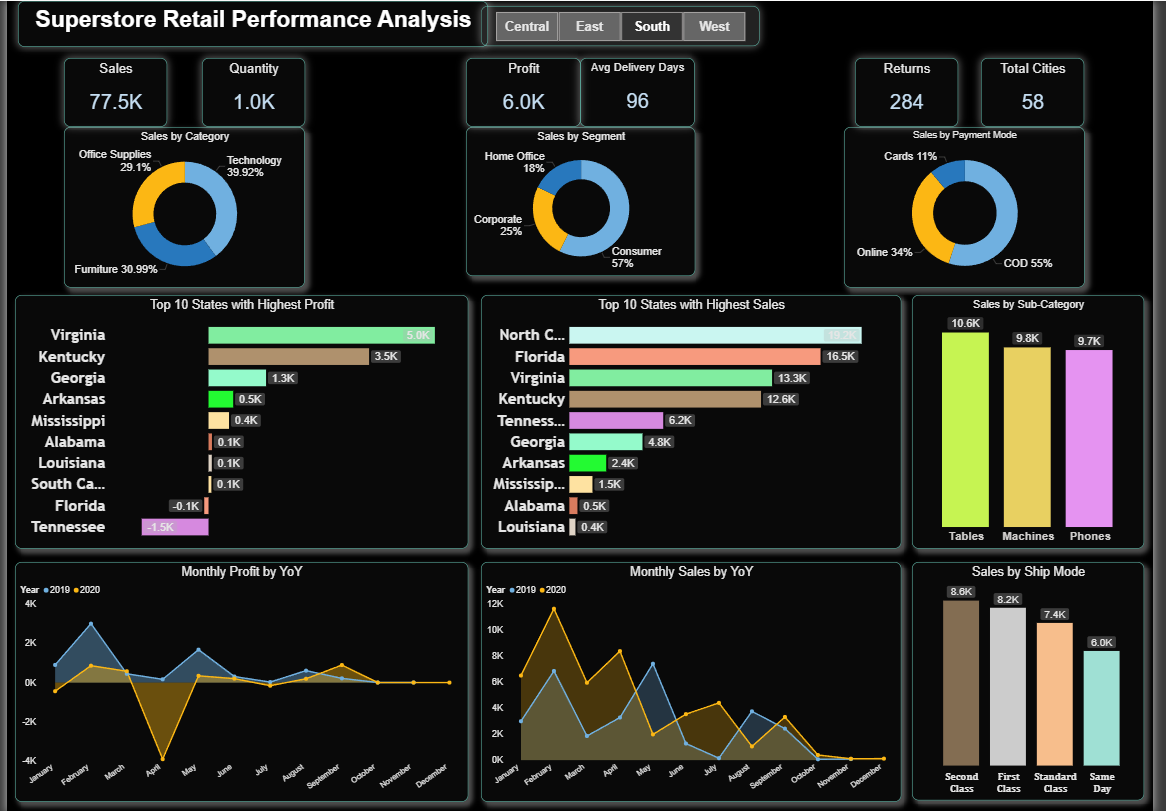

The dashboard page shown, as its layout file describes it:
{"tool":"powerbi","page":{"name":"Dashboard","canvas":[2400,1700],"ordinal":0},"visuals":[{"type":"donutChart","title":"Sales by Category","fields":{"Category":["SuperStore_Sales_Dataset.Category"],"Y":["Sum(SuperStore_Sales_Dataset.Sales)"]},"box":[120,264,504,336],"z":0},{"type":"clusteredColumnChart","title":"Sales by Sub-Category","fields":{"Category":["SuperStore_Sales_Dataset.Sub-Category"],"Y":["Sum(SuperStore_Sales_Dataset.Sales)"]},"box":[1894.4,614.8,486.1,530.8],"z":1000},{"type":"clusteredColumnChart","title":"Sales by Ship Mode","fields":{"Category":["SuperStore_Sales_Dataset.Ship Mode"],"Y":["Sum(SuperStore_Sales_Dataset.Sales)"]},"box":[1894.4,1174.5,486.1,499.2],"z":2000},{"type":"areaChart","title":"Monthly Sales by YoY ","fields":{"Y":["Sum(SuperStore_Sales_Dataset.Sales)"],"Category":["SuperStore_Sales_Dataset.Order Date.Variation.Date Hierarchy.Month","SuperStore_Sales_Dataset.Order Date.Variation.Date Hierarchy.Day"],"Series":["SuperStore_Sales_Dataset.Order Date.Variation.Date Hierarchy.Year"]},"box":[993.2,1174.5,880.2,501.9],"z":3000},{"type":"areaChart","title":"Monthly Profit by YoY ","fields":{"Category":["SuperStore_Sales_Dataset.Order Date.Variation.Date Hierarchy.Month","SuperStore_Sales_Dataset.Order Date.Variation.Date Hierarchy.Day"],"Series":["SuperStore_Sales_Dataset.Order Date.Variation.Date Hierarchy.Year"],"Y":["Sum(SuperStore_Sales_Dataset.Profit)"]},"box":[15.8,1174.5,948.5,501.9],"z":4000},{"type":"donutChart","title":"Sales by Segment","fields":{"Category":["SuperStore_Sales_Dataset.Segment"],"Y":["Sum(SuperStore_Sales_Dataset.Sales)"]},"box":[960,264,480,312],"z":6000},{"type":"donutChart","title":"Sales by Payment Mode","fields":{"Category":["SuperStore_Sales_Dataset.Payment Mode"],"Y":["Sum(SuperStore_Sales_Dataset.Sales)"]},"box":[1752,264,504,336],"z":7000},{"type":"slicer","fields":{"Values":["SuperStore_Sales_Dataset.Region"]},"box":[993.2,10.5,583.3,84.1],"z":8000},{"type":"textbox","box":[24,0,984,96],"z":9000},{"type":"card","title":"Sales","fields":{"Values":["Sum(SuperStore_Sales_Dataset.Sales)"]},"box":[120,120,216,144],"z":10000},{"type":"card","title":"Quantity","fields":{"Values":["Sum(SuperStore_Sales_Dataset.Quantity)"]},"box":[408,120,216,144],"z":11000},{"type":"card","title":"Profit","fields":{"Values":["Sum(SuperStore_Sales_Dataset.Profit)"]},"box":[960,120,240,144],"z":12000},{"type":"card","title":"Avg Delivery Days","fields":{"Values":["Avg(SuperStore_Sales_Dataset.AvgDelivery)"]},"box":[1200,120,240,144],"z":13000},{"type":"card","title":"Returns","fields":{"Values":["CountNonNull(SuperStore_Sales_Dataset.Returns)"]},"box":[1776,120,216,144],"z":14000},{"type":"card","title":"Total Cities","fields":{"Values":["Count(SuperStore_Sales_Dataset.City)"]},"box":[2040,120,216,144],"z":15000},{"type":"clusteredBarChart","title":"Top 10 States with Highest Sales","fields":{"Category":["SuperStore_Sales_Dataset.State"],"Y":["Sum(SuperStore_Sales_Dataset.Sales)"]},"box":[993.2,614.8,880.2,530.8],"z":16000},{"type":"clusteredBarChart","title":"Top 10 States with Highest Profit ","fields":{"Category":["SuperStore_Sales_Dataset.State"],"Y":["Sum(SuperStore_Sales_Dataset.Profit)"]},"box":[15.8,614.8,948.5,530.8],"z":17000}]}

Visuals, with their boxes in screenshot pixels (x1, y1, x2, y2), scaled from the page's 2400x1700 canvas onto the 1166x811 screenshot:
"Sales by Category" donutChart: [58, 126, 303, 286]
"Sales by Sub-Category" clusteredColumnChart: [920, 293, 1157, 547]
"Sales by Ship Mode" clusteredColumnChart: [920, 560, 1157, 798]
"Monthly Sales by YoY " areaChart: [483, 560, 910, 800]
"Monthly Profit by YoY " areaChart: [8, 560, 468, 800]
"Sales by Segment" donutChart: [466, 126, 700, 275]
"Sales by Payment Mode" donutChart: [851, 126, 1096, 286]
slicer - SuperStore_Sales_Dataset.Region: [483, 5, 766, 45]
textbox: [12, 0, 490, 46]
"Sales" card: [58, 57, 163, 126]
"Quantity" card: [198, 57, 303, 126]
"Profit" card: [466, 57, 583, 126]
"Avg Delivery Days" card: [583, 57, 700, 126]
"Returns" card: [863, 57, 968, 126]
"Total Cities" card: [991, 57, 1096, 126]
"Top 10 States with Highest Sales" clusteredBarChart: [483, 293, 910, 547]
"Top 10 States with Highest Profit " clusteredBarChart: [8, 293, 468, 547]
